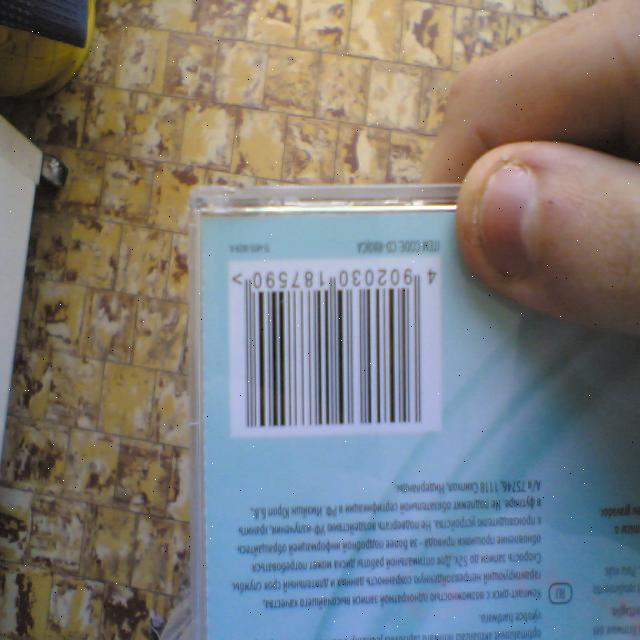barcode: (229, 255, 442, 437)
